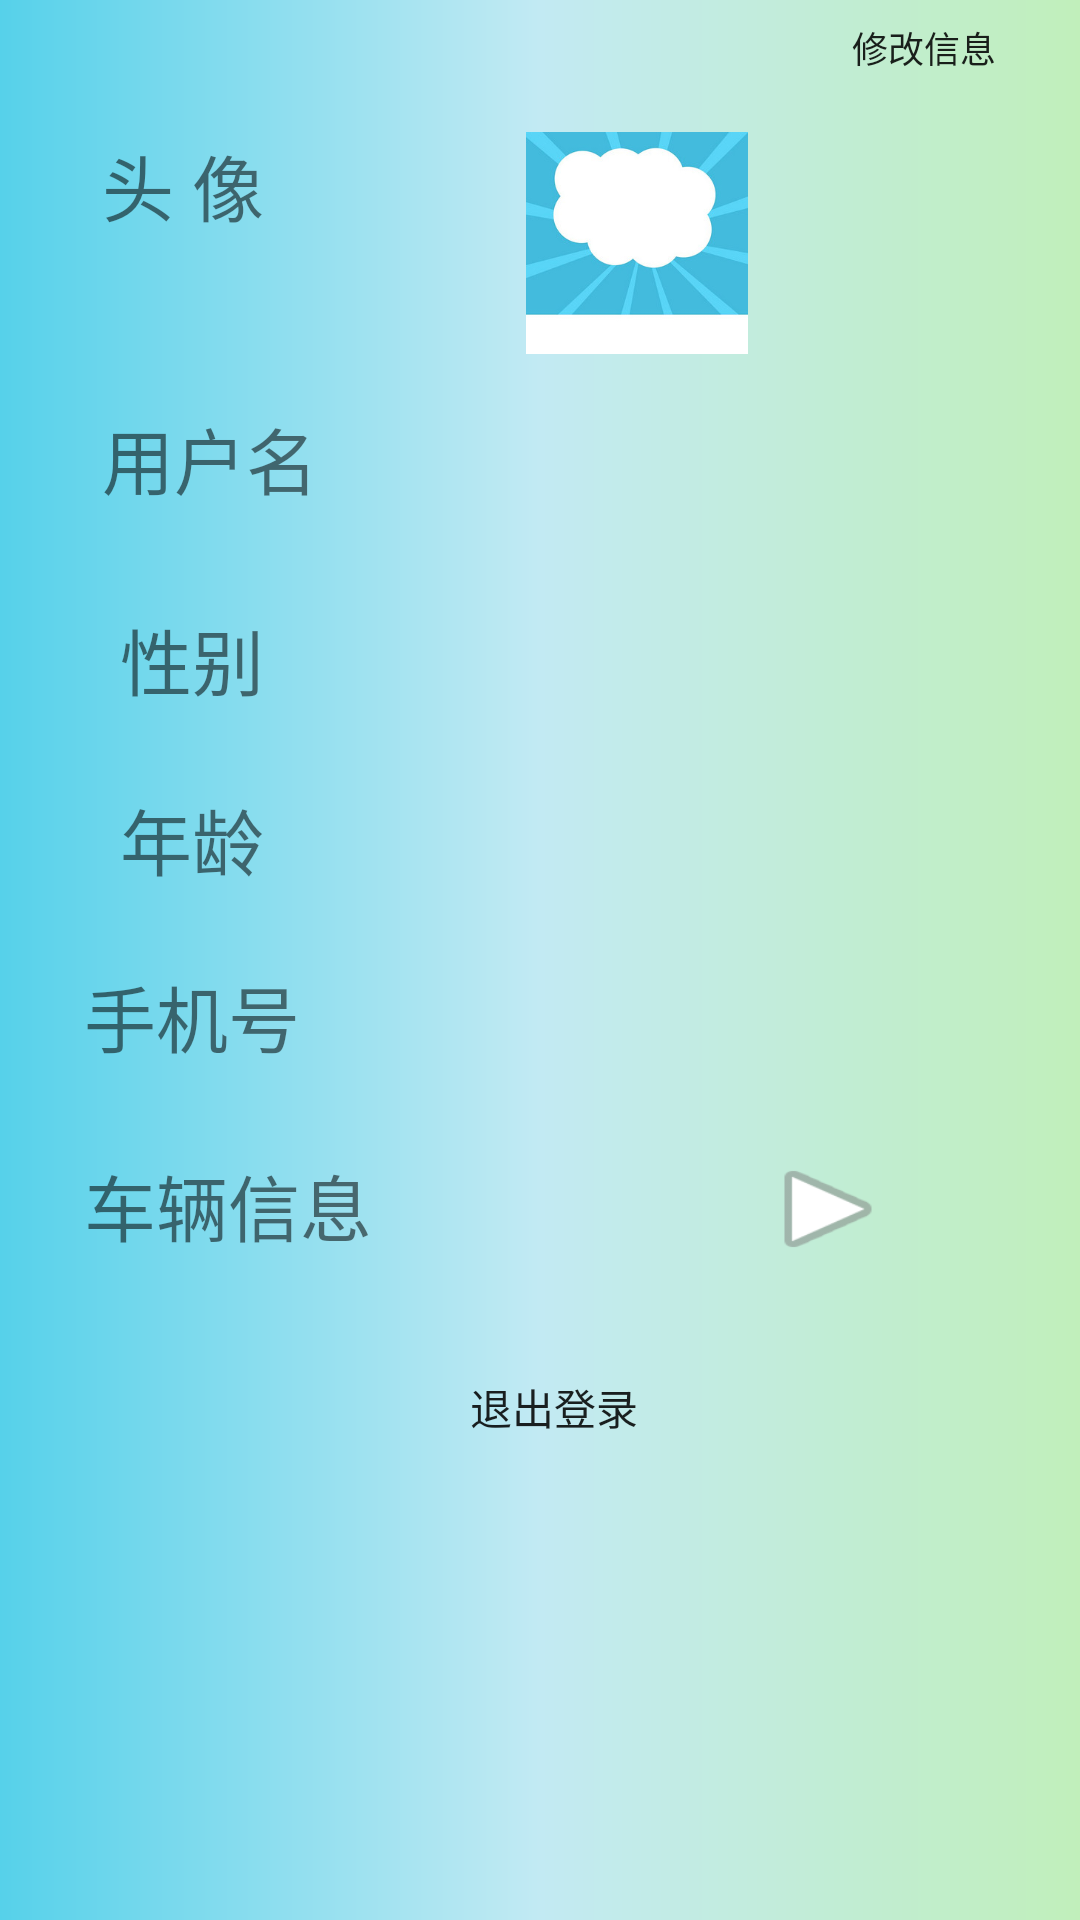

Where to tap for icons on this 1080px x 1920px app screen, as (x,y):
play: (828,1209)
